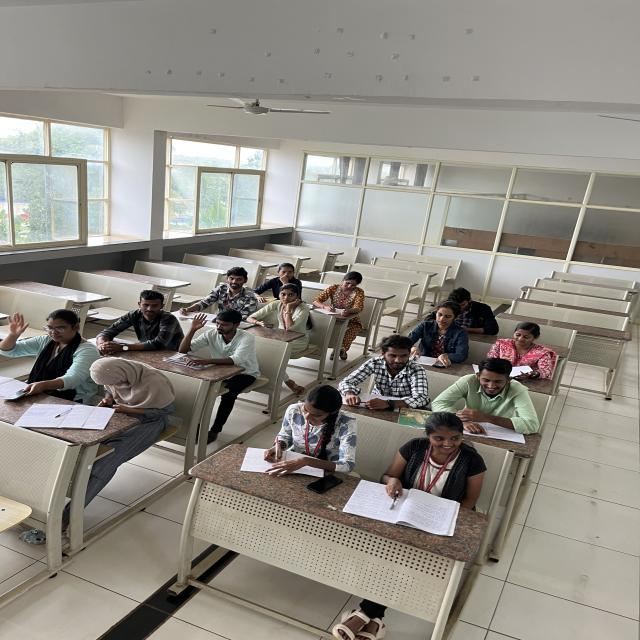Hand Rising: (0, 306, 95, 378), (182, 308, 254, 359)
Reading: (438, 356, 540, 438), (486, 320, 556, 379)
Using Phone: (85, 347, 173, 407)
Writing: (372, 416, 476, 522), (252, 381, 354, 470), (338, 336, 424, 410), (179, 266, 255, 320), (413, 301, 468, 365), (318, 270, 365, 320)
